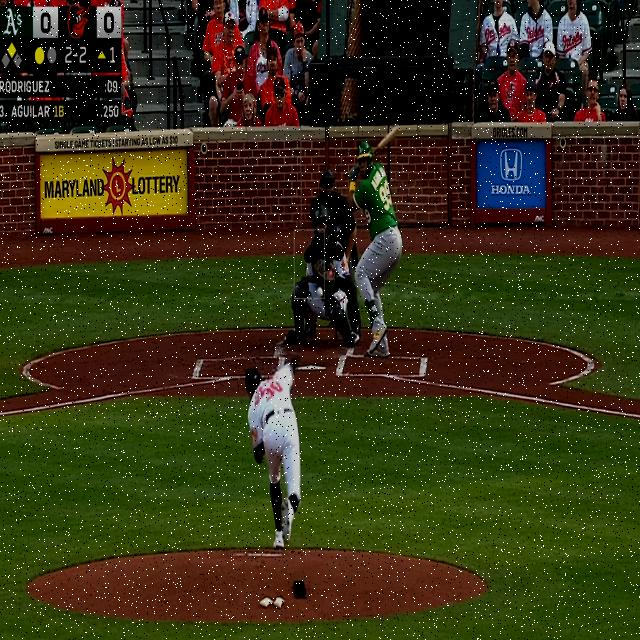baseball: (317, 286, 323, 296)
